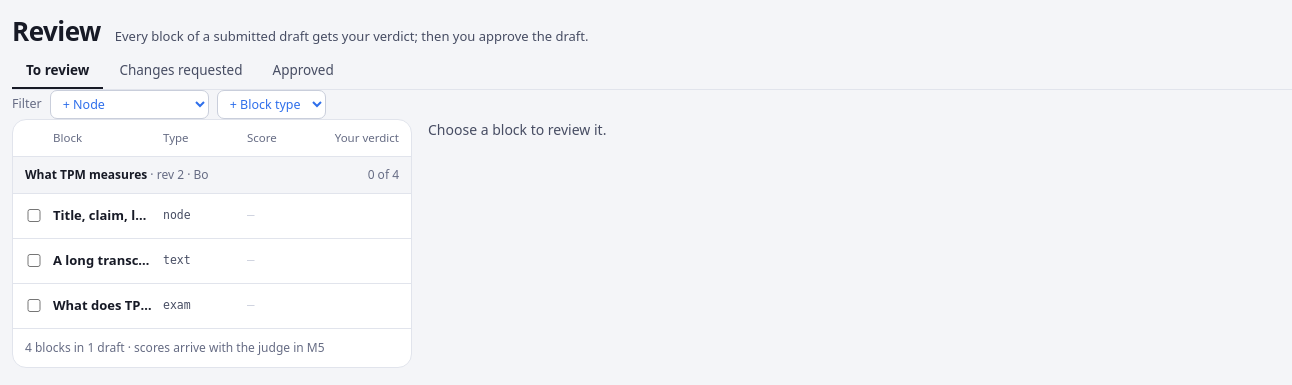
Test: ReviewPage — the queue › filters by your verdict
Expected: the text "What TPM measures" is shown, [25,166,147,182]
Expected: the button "TPM is not a count" is not shown
Click the tab "Changes requested": [181, 70] box [105,51,256,89]
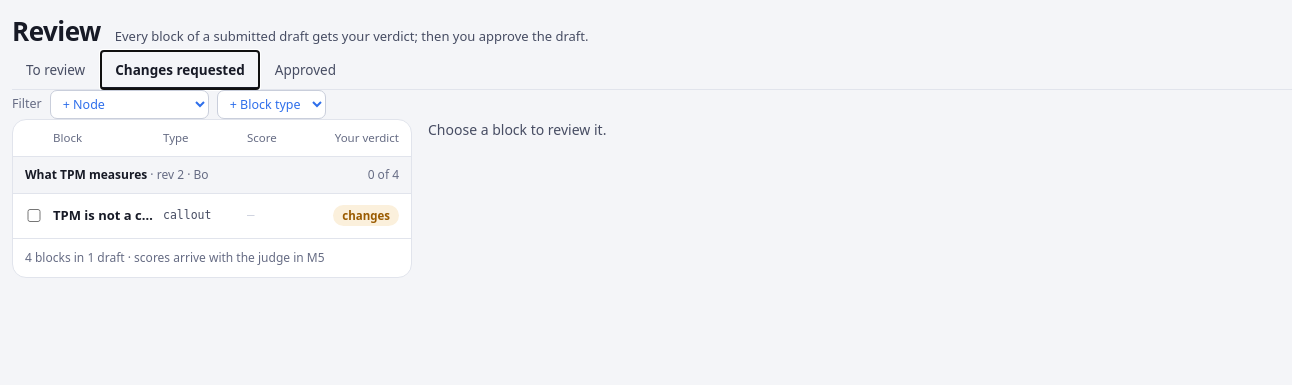
Now the button "TPM is not a count of reads" is shown, box [53,194,153,238]
